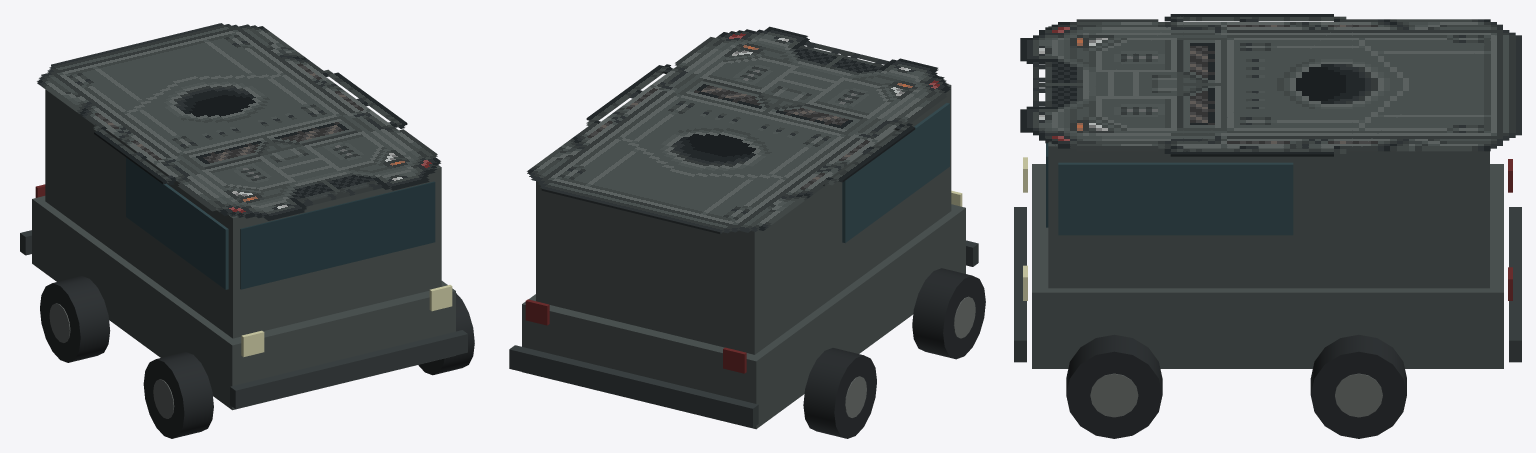
Rendered from CMU3DReduxVehicleHumvee.glb.
3 views of the same model, side by side, from view 1: azimuth 30°, elevation 25°; view 2: azimuth 150°, elevation 25°; view 3: azimuth 270°, elevation 25° (orthographic). The views are drawn at different scales.
Parts seen in each view (by area): view 1: source hull roof panel (×3), upper hull, closed lower chassis, cab windscreen, road tire (×3), cab side window, front bumper, wheel hub (×2), front light (×2); view 2: source hull roof panel (×3), upper hull, closed lower chassis, road tire (×2), cab side window, rear bumper, wheel hub (×2), rear marker (×2); view 3: source hull roof panel (×3), upper hull, closed lower chassis, cab side window, road tire (×2), wheel hub (×2), rear bumper, front bumper.
Boxes of the visible parts, x1,y1,x2,y2 form: source hull roof panel (×3): (37, 23, 440, 220); upper hull: (45, 89, 441, 338); closed lower chassis: (32, 196, 455, 410); cab windscreen: (240, 181, 435, 289); road tire (×3): (40, 276, 474, 438); cab side window: (126, 157, 228, 289); front bumper: (230, 330, 467, 409); wheel hub (×2): (49, 303, 174, 418); front light (×2): (241, 285, 452, 357); source hull roof panel (×3): (527, 26, 950, 234); upper hull: (536, 84, 951, 354); closed lower chassis: (522, 204, 965, 429); road tire (×2): (803, 268, 985, 438); cab side window: (842, 103, 949, 242); rear bumper: (509, 345, 758, 427); wheel hub (×2): (845, 296, 975, 417); rear marker (×2): (525, 299, 746, 373); source hull roof panel (×3): (1020, 14, 1521, 156); upper hull: (1048, 26, 1489, 288); closed lower chassis: (1032, 164, 1503, 368); cab side window: (1058, 162, 1293, 235); road tire (×2): (1066, 334, 1406, 438); wheel hub (×2): (1090, 373, 1382, 417); rear bumper: (1509, 207, 1521, 362); front bumper: (1014, 207, 1026, 362).
Bounding box in the file's own units: 1.98 × 1.49 × 2.53.
Materials: 11 (3 with a texture image).
